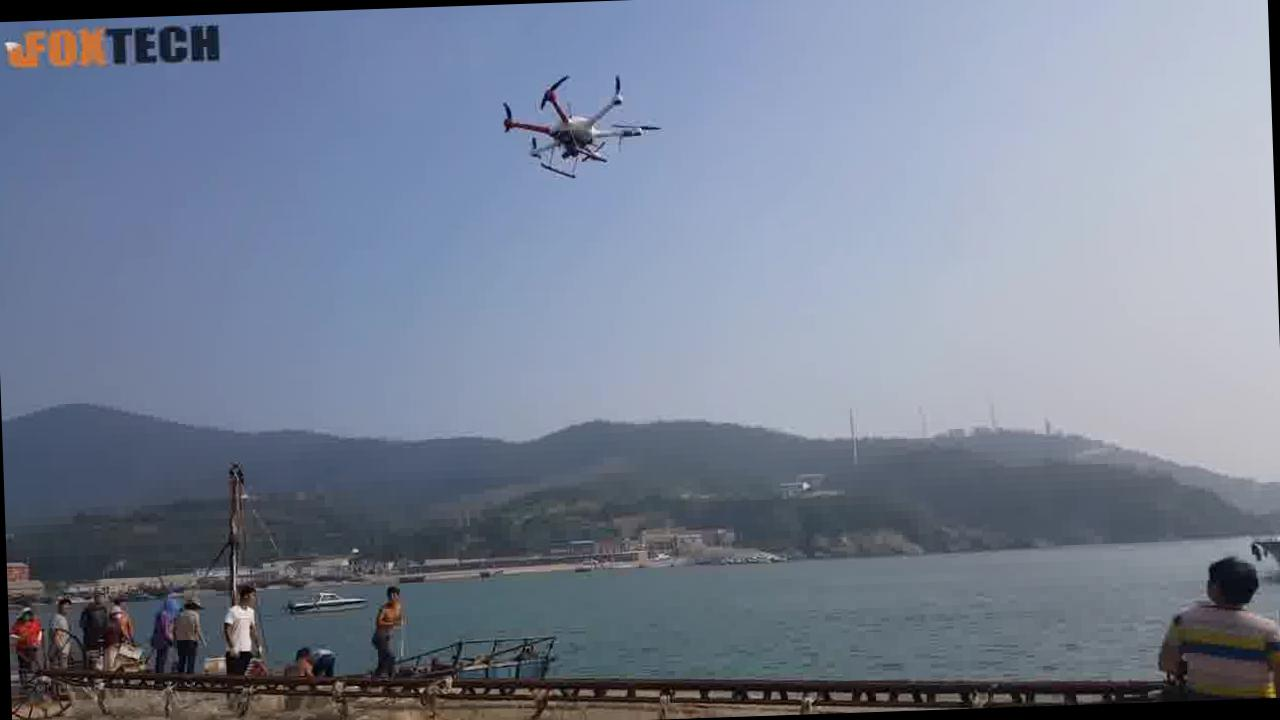drone: (498, 67, 664, 180)
